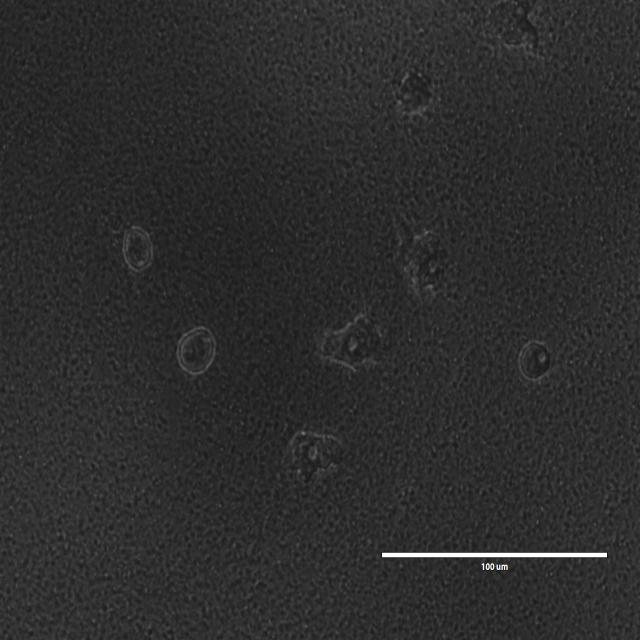Amoeba: (321, 319, 387, 373), (288, 427, 345, 489), (397, 233, 450, 298), (472, 4, 540, 52), (394, 66, 436, 118), (176, 328, 216, 375), (120, 223, 154, 272), (518, 339, 554, 383)
